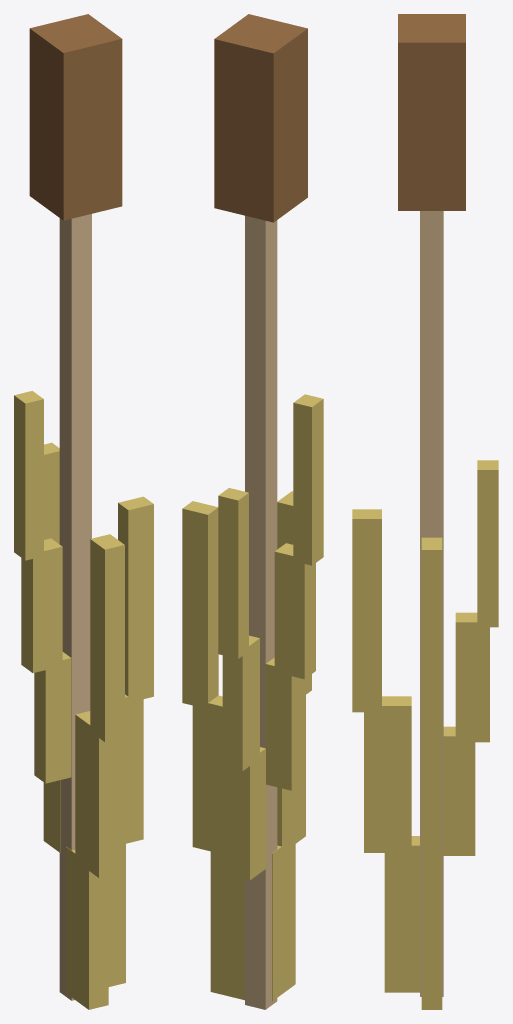
File: Wheat.glb
3 views of the same model, side by side, from view 1: azimuth 30°, elevation 25°; view 2: azimuth 150°, elevation 25°; view 3: azimuth 270°, elevation 25° (orthographic).
Parts seen in each view (by area): view 1: Cube.001, Cube, Cube.011, Cube.012, Cube.004, Cube.013, Cube.006, Cube.005, Cube.007, Cube.003, Cube.002, Cube.010 (+1 smaller); view 2: Cube, Cube.001, Cube.004, Cube.005, Cube.010, Cube.003, Cube.006, Cube.002, Cube.007, Cube.009, Cube.008, Cube.013 (+2 smaller); view 3: Cube.001, Cube, Cube.012, Cube.011, Cube.013, Cube.004, Cube.009, Cube.008, Cube.010, Cube.003, Cube.002.
Boxes of the visible parts, x1,y1,x2,y2 form: Cube.001: [29, 14, 122, 220]; Cube: [59, 214, 91, 1000]; Cube.011: [90, 534, 124, 742]; Cube.012: [75, 711, 118, 878]; Cube.004: [118, 496, 153, 702]; Cube.013: [66, 847, 108, 1009]; Cube.006: [21, 538, 62, 672]; Cube.005: [14, 391, 43, 560]; Cube.007: [34, 652, 71, 783]; Cube.003: [119, 693, 143, 843]; Cube.002: [108, 836, 125, 986]; Cube.010: [44, 442, 59, 544]; Cube: [245, 215, 277, 1009]; Cube.001: [214, 14, 307, 222]; Cube.004: [182, 501, 218, 708]; Cube.005: [293, 394, 323, 565]; Cube.010: [218, 488, 248, 658]; Cube.003: [192, 695, 229, 851]; Cube.006: [274, 543, 315, 679]; Cube.002: [210, 844, 244, 1000]; Cube.007: [265, 657, 303, 790]; Cube.009: [222, 635, 259, 771]; Cube.008: [230, 747, 266, 880]; Cube.013: [272, 837, 295, 1001]; Cube.001: [398, 14, 465, 210]; Cube: [420, 211, 443, 996]; Cube.012: [364, 696, 411, 852]; Cube.011: [352, 509, 381, 712]; Cube.013: [384, 836, 419, 992]; Cube.004: [421, 537, 442, 743]; Cube.009: [455, 612, 489, 742]; Cube.008: [443, 726, 475, 855]; Cube.010: [477, 460, 498, 627]; Cube.003: [421, 743, 442, 878]; Cube.002: [421, 879, 442, 1009].
Size of the model in its own units: 0.1484 by 1.06 by 0.1453.
